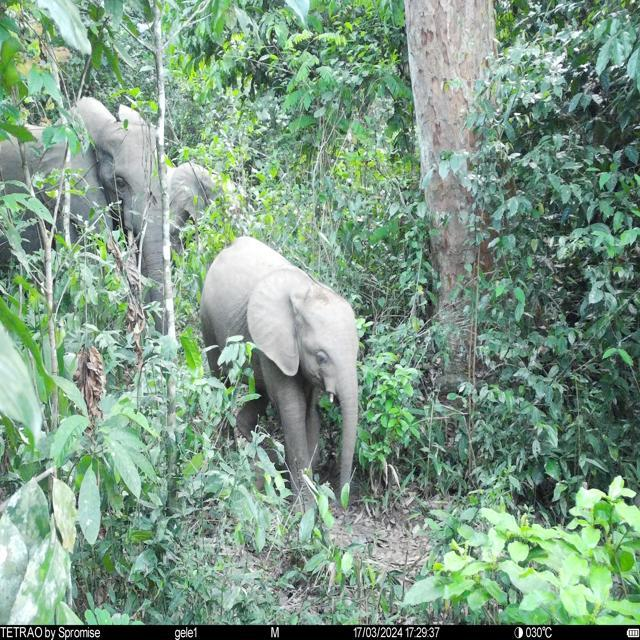calf: (198, 236, 358, 514)
ear: (34, 97, 116, 246), (246, 266, 314, 378), (168, 165, 222, 222), (115, 102, 152, 128)
elephant: (0, 97, 168, 333), (164, 163, 222, 253)
tusk: (328, 393, 335, 402)
